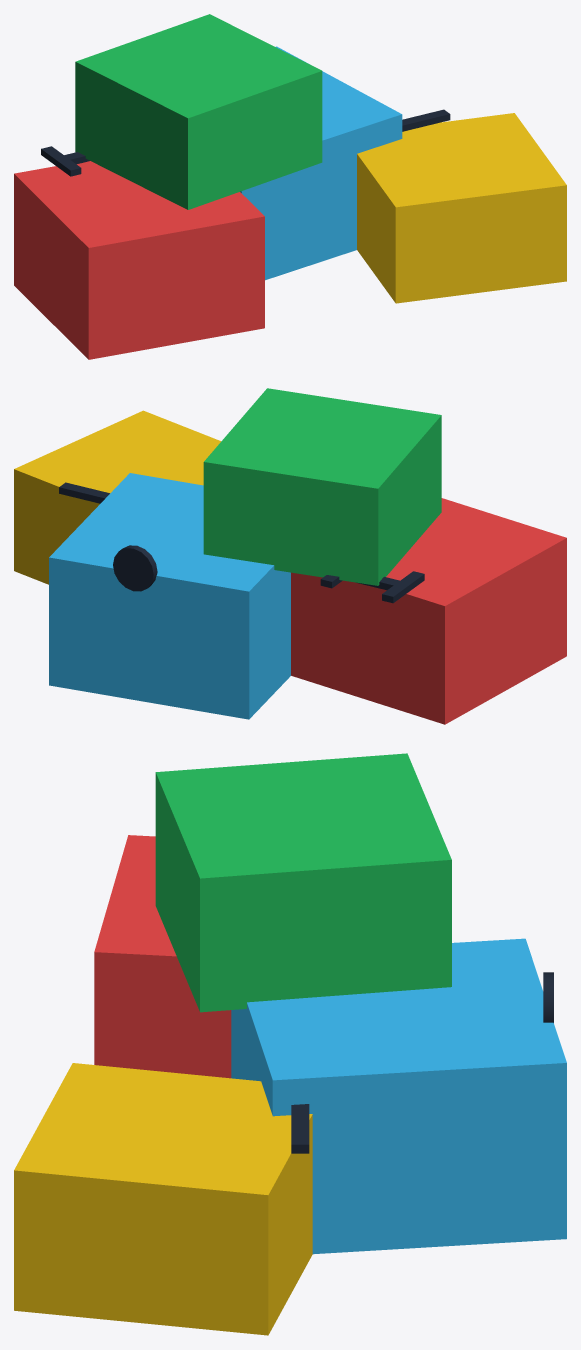
Rendered from toy_barn_abc_block_pile.glb.
3 views of the same model, one above another, from view 1: azimuth 30°, elevation 25°; view 2: azimuth 150°, elevation 25°; view 3: azimuth 270°, elevation 25° (orthographic). The views are drawn at different scales.
Visible parts, largest first — view 1: solid_1, solid_4, solid_3, solid_2, solid_9, solid_6; view 2: solid_2, solid_1, solid_4, solid_3, solid_8, solid_6, solid_9; view 3: solid_2, solid_3, solid_4, solid_1, solid_9.
Part boxes in pixels (left/top/right/bottom): solid_1: left=14, top=161, right=264, bottom=359; solid_4: left=75, top=14, right=322, bottom=209; solid_3: left=357, top=113, right=566, bottom=303; solid_2: left=240, top=46, right=402, bottom=280; solid_9: left=402, top=109, right=450, bottom=131; solid_6: left=41, top=146, right=81, bottom=176; solid_2: left=49, top=473, right=290, bottom=719; solid_1: left=291, top=498, right=566, bottom=724; solid_4: left=203, top=388, right=441, bottom=585; solid_3: left=14, top=410, right=220, bottom=584; solid_8: left=113, top=545, right=157, bottom=591; solid_6: left=382, top=571, right=424, bottom=603; solid_9: left=59, top=482, right=109, bottom=503; solid_2: left=231, top=938, right=566, bottom=1254; solid_3: left=14, top=1063, right=312, bottom=1335; solid_4: left=155, top=753, right=451, bottom=1012; solid_1: left=94, top=835, right=231, bottom=1078; solid_9: left=291, top=1104, right=309, bottom=1153.
Bounding box in the file's own units: 4.43 × 1.86 × 3.07.
